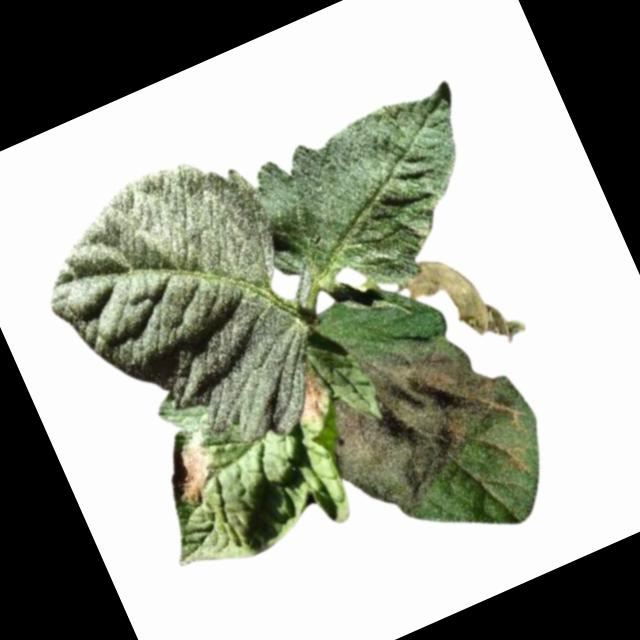Late_blight: (301, 315, 534, 540), (391, 233, 531, 376), (157, 433, 225, 509), (283, 367, 335, 428)
healthy: (17, 135, 350, 500), (232, 76, 514, 326)
